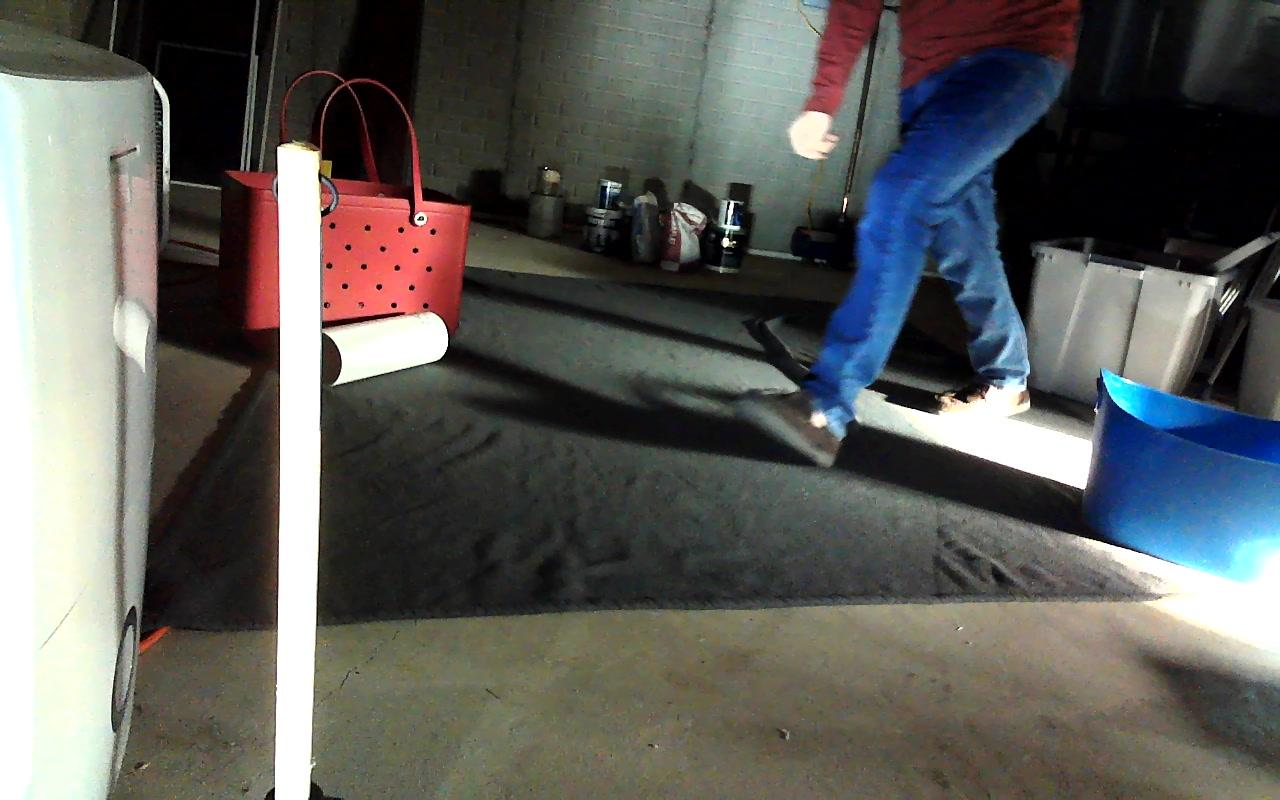coral: (320, 310, 447, 386), (111, 298, 154, 367)
